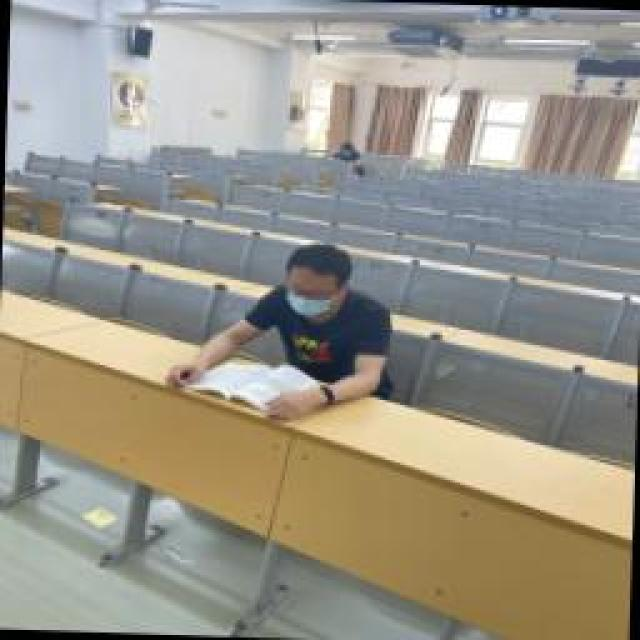study: (163, 240, 395, 425)
